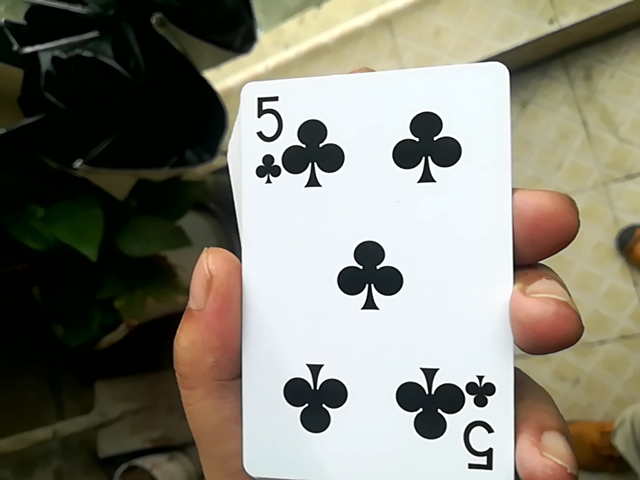mh 5: (217, 60, 516, 479)
